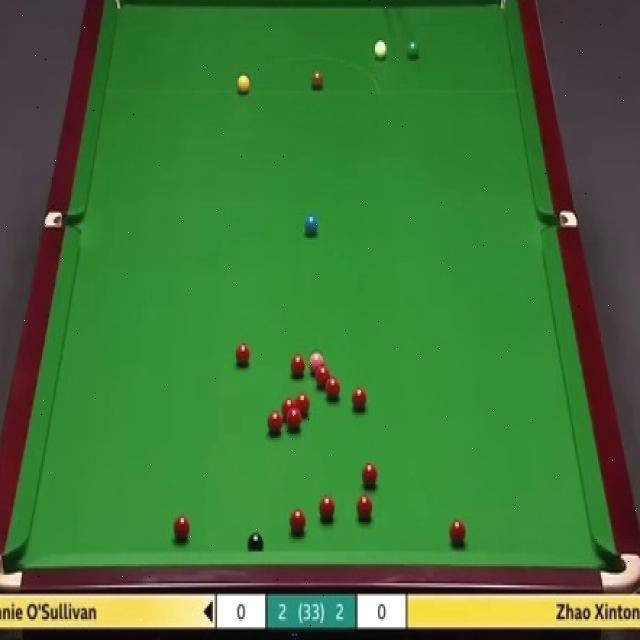black-ball: (247, 530, 264, 556)
blue-ball: (305, 216, 319, 236)
brown-ball: (310, 71, 323, 91)
green-ball: (406, 39, 421, 61)
pink-ball: (309, 349, 324, 373)
red-ball: (448, 516, 467, 547), (355, 493, 374, 522), (360, 461, 379, 489), (288, 510, 308, 534), (173, 514, 190, 540), (319, 494, 336, 520), (234, 341, 250, 368), (325, 378, 341, 404), (290, 352, 306, 378), (267, 410, 283, 435), (296, 392, 312, 416), (287, 406, 302, 430), (352, 387, 367, 411), (315, 366, 331, 386), (282, 397, 296, 416)
white-ball: (374, 38, 388, 62)
yellow-ball: (236, 71, 250, 95)
